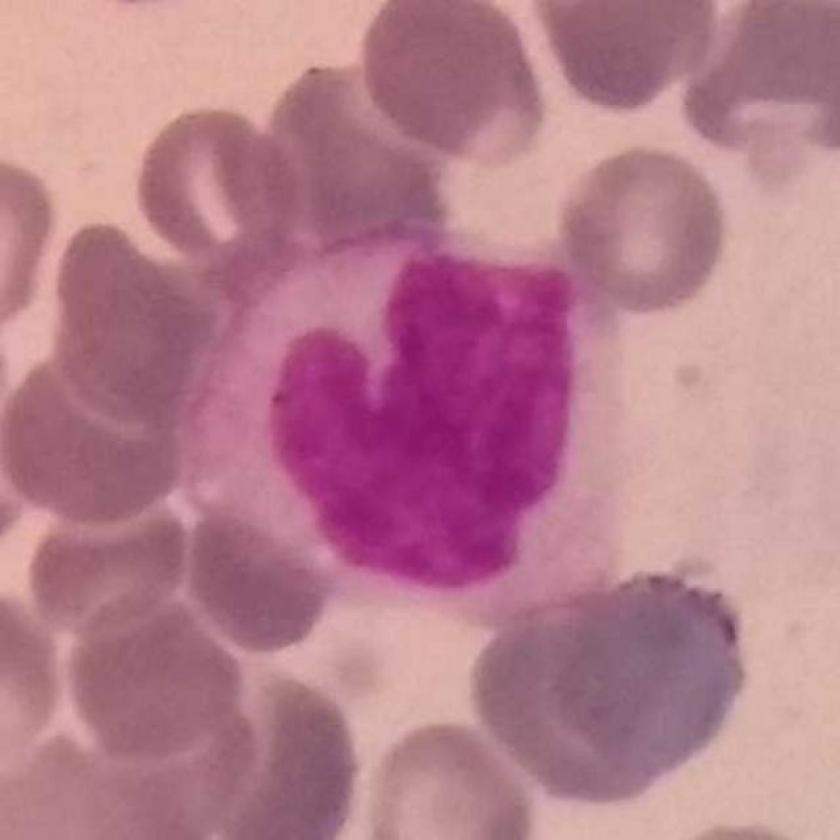monocyte: (169, 214, 632, 629)
